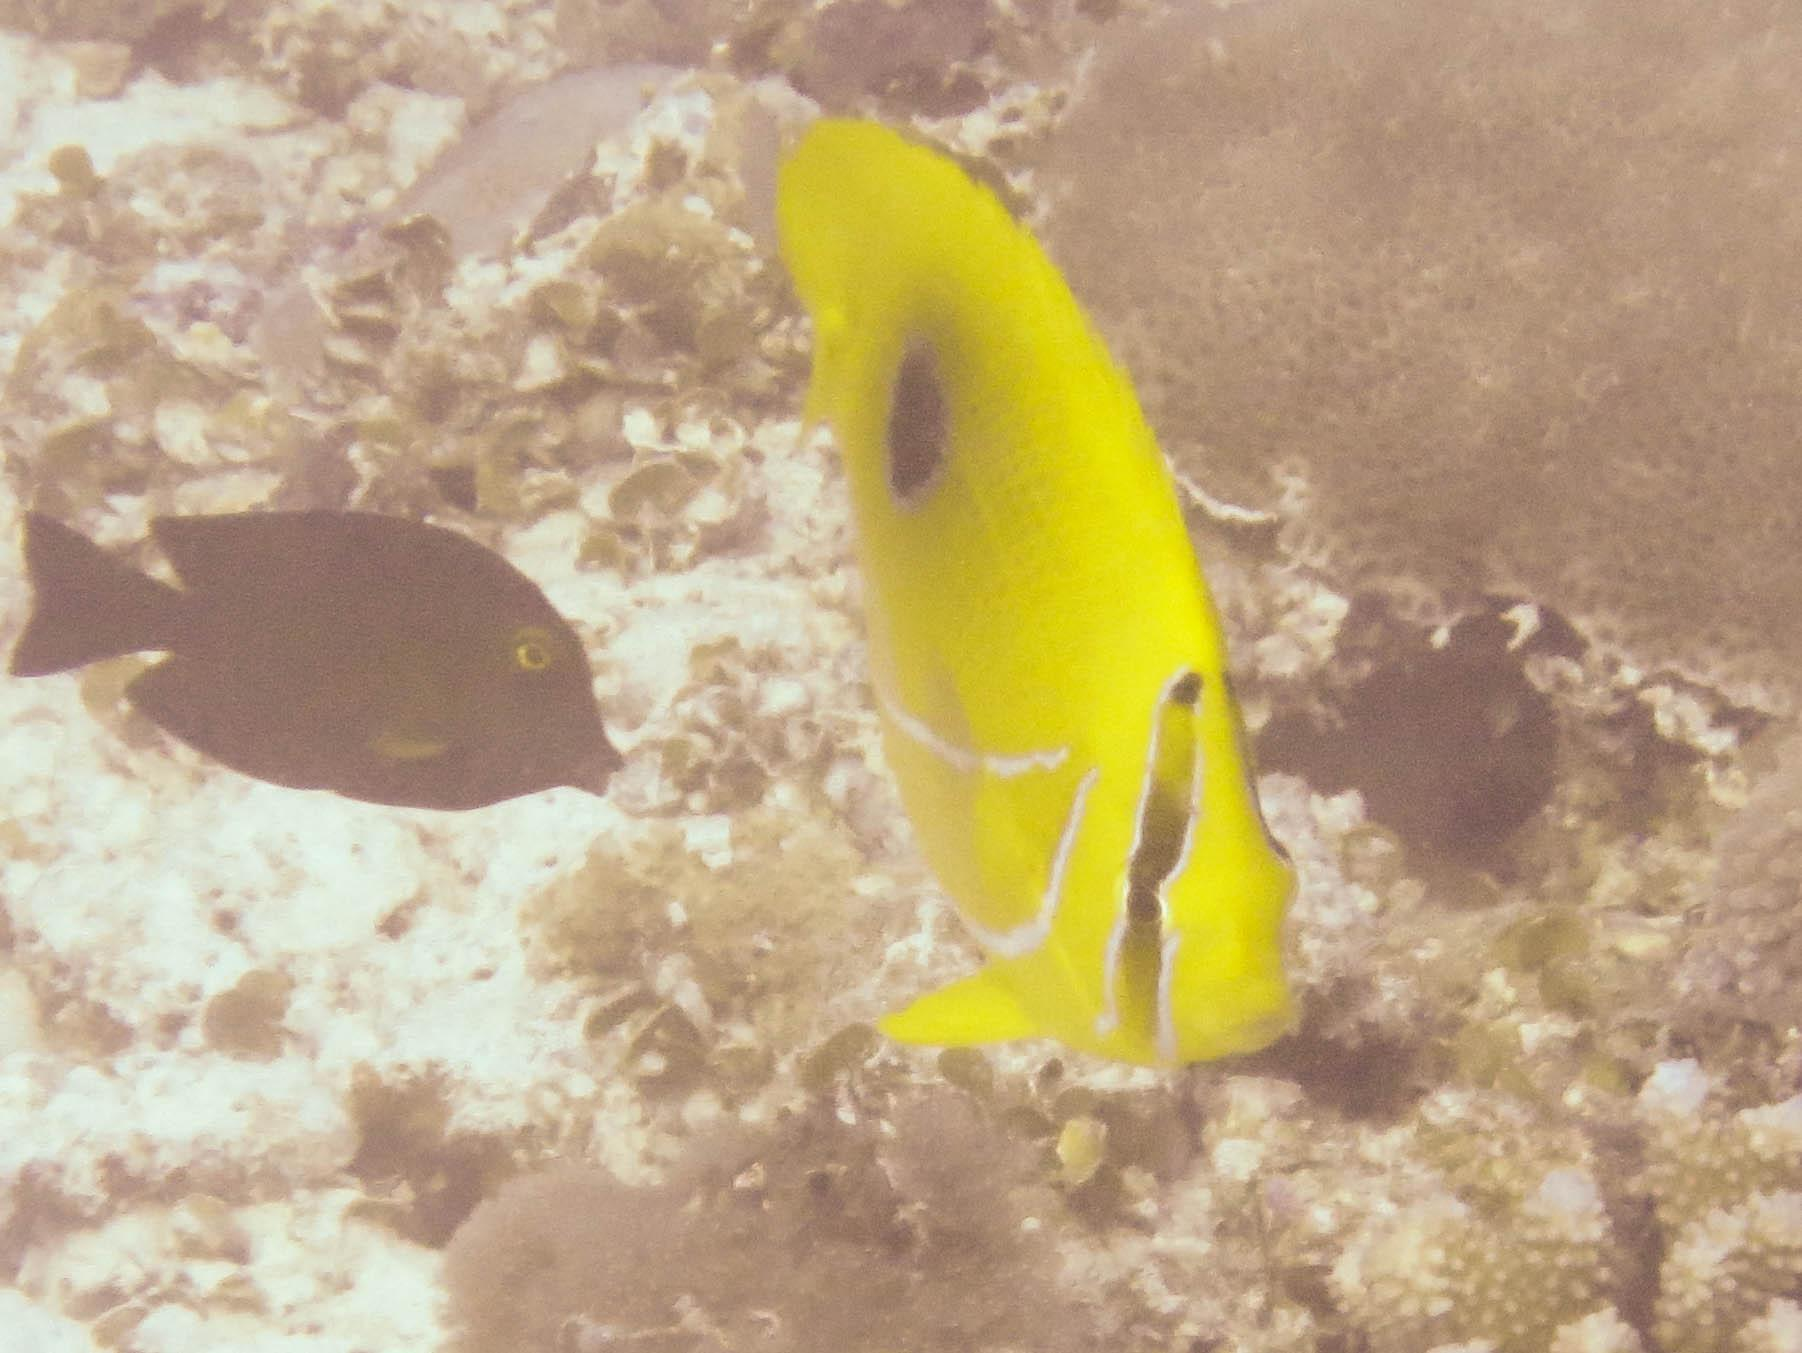Fish: (705, 97, 1380, 1140)
